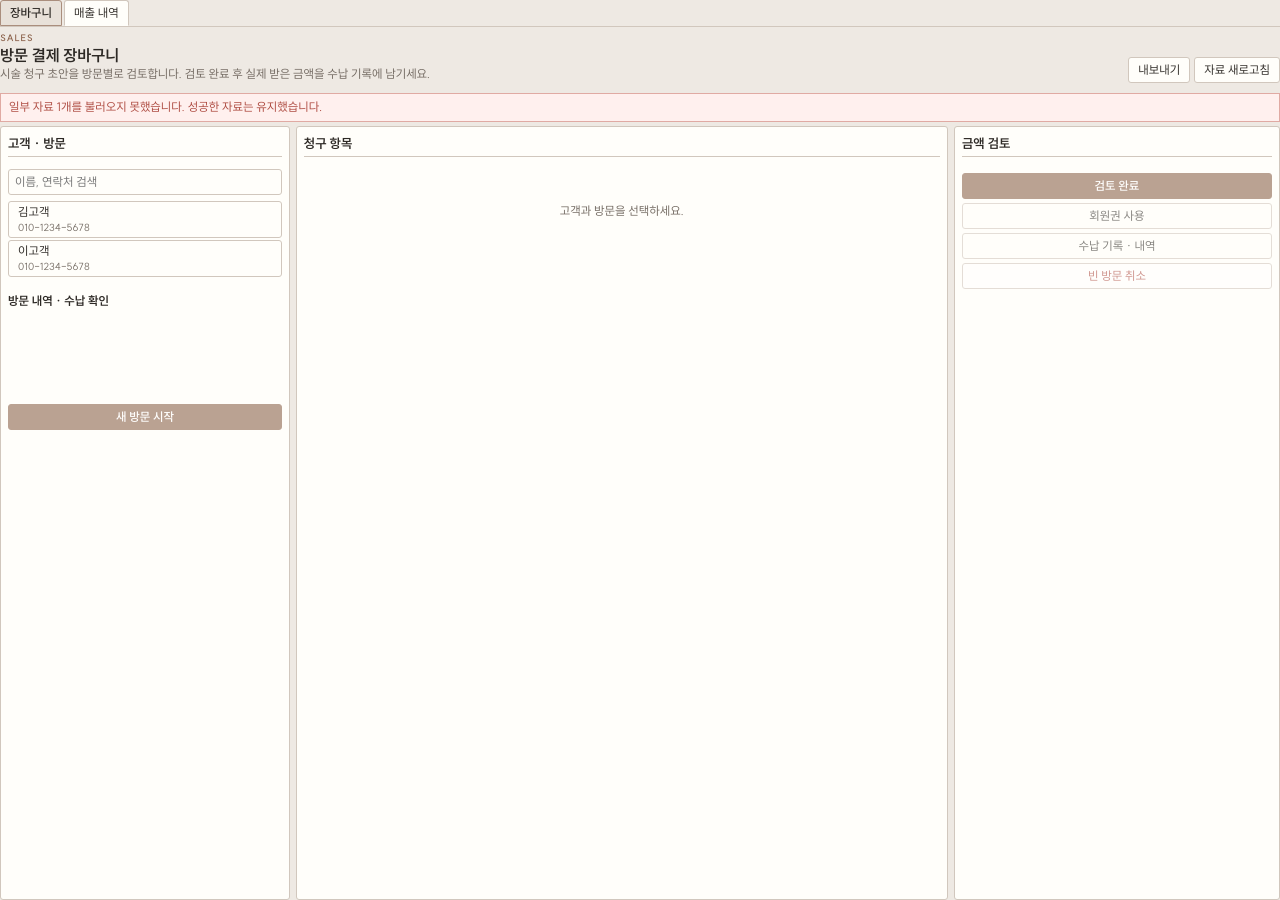
Test case: 매출 내역 탭 › 수납·환불 내역과 합계를 보여 주고 기본 조건(최신순 50건)으로 조회한다
The image size is (1280, 900).
Check: the heading "방문 결제 장바구니" is shown, box 0,45 -> 119,65
What coordinates should you click on to do the following:
click the tab "매출 내역"
I would click on:
 (96, 13)
Its box is 64,0 -> 129,26.
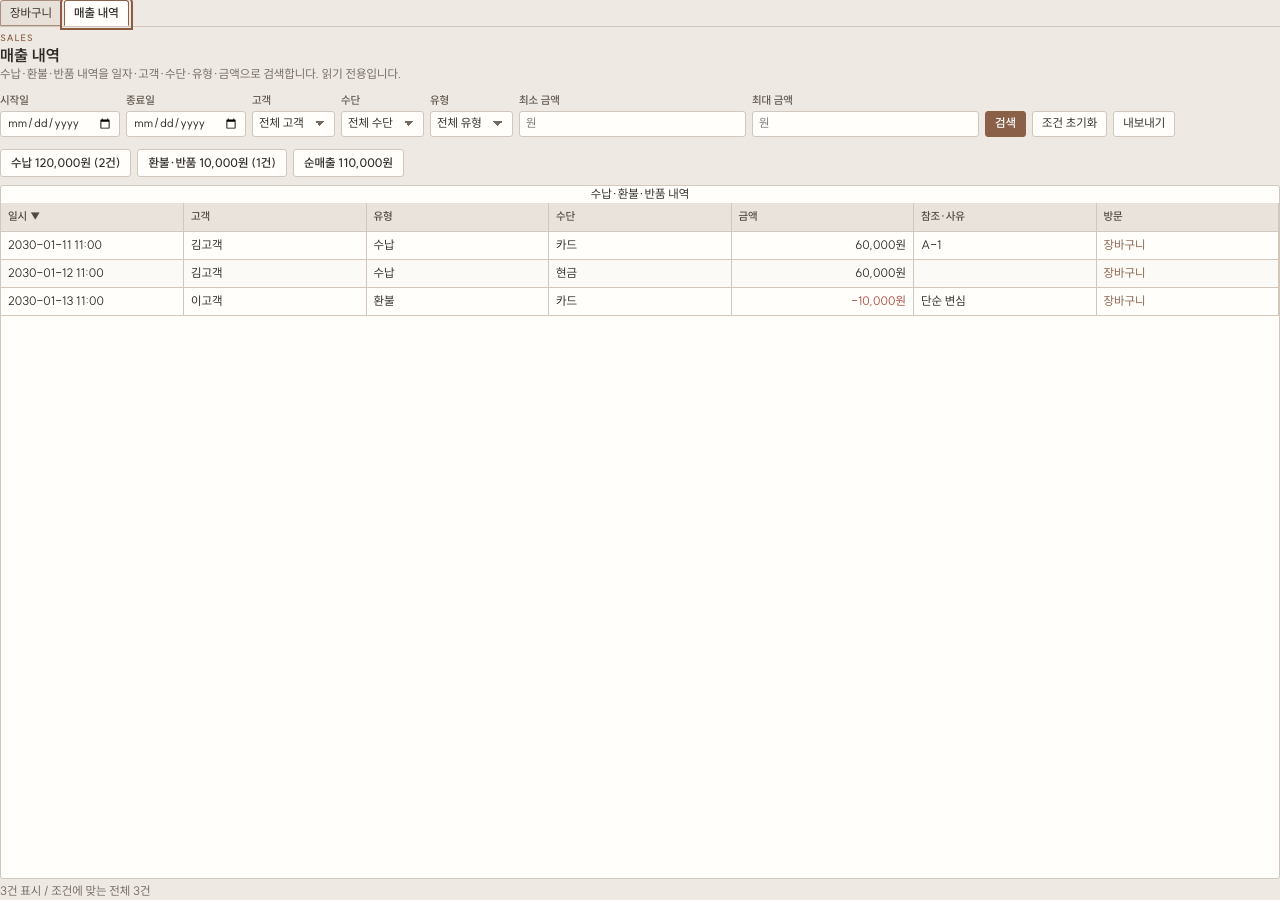
Check: the text "A-1" is shown, box 914,231 -> 1096,259
Check: the element with test id "history-totals" shows "수납 120,000원 (2건)", box 0,149 -> 404,177
Check: the element with test id "history-totals" shows "환불·반품 10,000원 (1건)", box 0,149 -> 404,177
